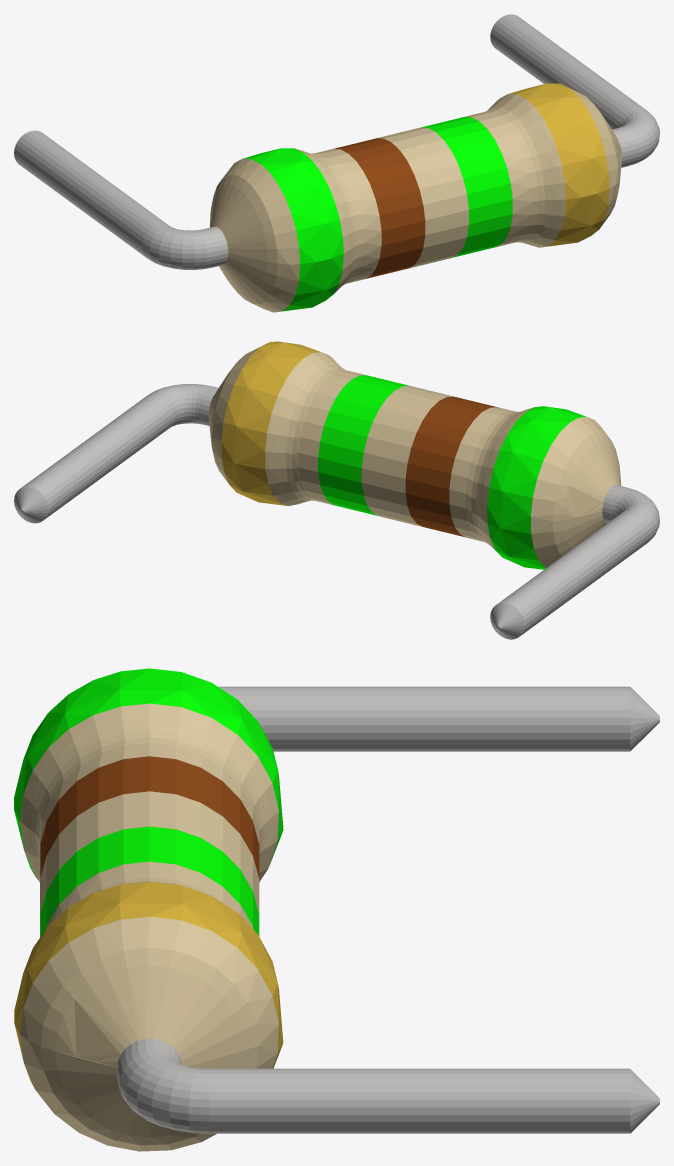
The model's file is Yageo CFR-25 Resistor Axial P7.62mm 5,1 MOhm.obj.
3 views of the same model, one above another, from view 1: azimuth 30°, elevation 25°; view 2: azimuth 150°, elevation 25°; view 3: azimuth 270°, elevation 25° (orthographic). The views are drawn at different scales.
Visible parts, largest first — view 1: Yageo_CFR-25_Resistor_Axial_P7.62mm_5,1_MOhm; view 2: Yageo_CFR-25_Resistor_Axial_P7.62mm_5,1_MOhm; view 3: Yageo_CFR-25_Resistor_Axial_P7.62mm_5,1_MOhm.
Boxes of the visible parts, left/top/right/bottom form: Yageo_CFR-25_Resistor_Axial_P7.62mm_5,1_MOhm: left=14, top=14, right=659, bottom=312; Yageo_CFR-25_Resistor_Axial_P7.62mm_5,1_MOhm: left=14, top=341, right=659, bottom=639; Yageo_CFR-25_Resistor_Axial_P7.62mm_5,1_MOhm: left=14, top=668, right=659, bottom=1151.
Bounding box in the file's own units: 0.0162 × 0.00448 × 0.0108.
